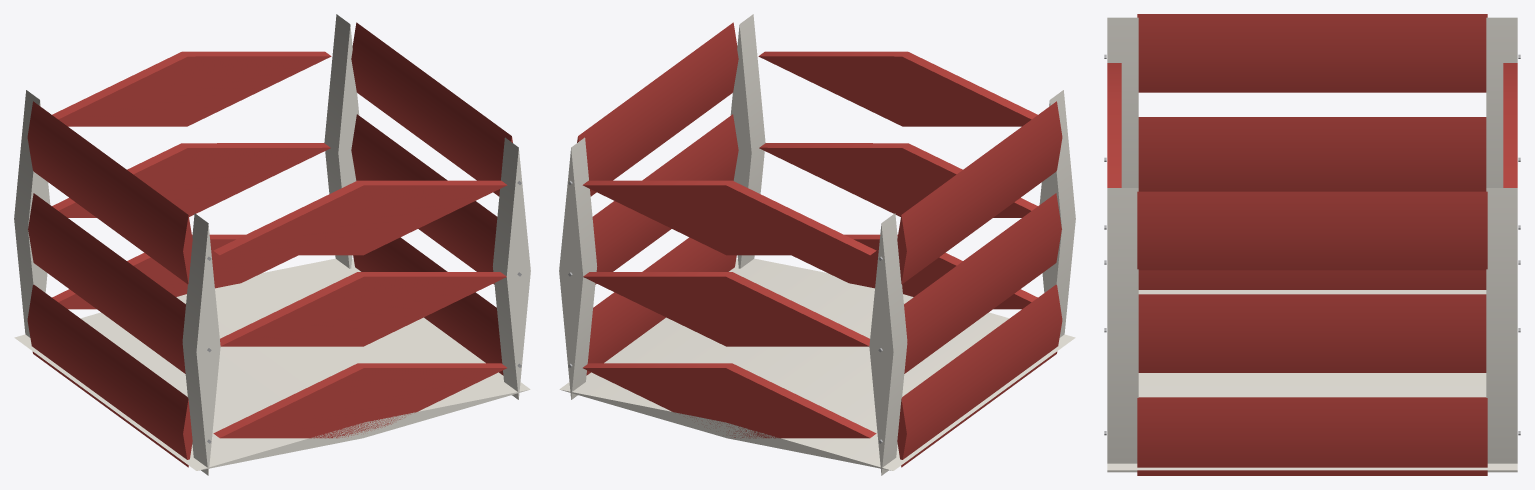
Rendered from crate.glb.
The picture shows the model from 3 angles, left to right: view 1: azimuth 30°, elevation 25°; view 2: azimuth 150°, elevation 25°; view 3: azimuth 270°, elevation 25°; orthographic projection. The views are drawn at different scales.
Parts seen in each view (by area): view 1: lod0; view 2: lod0; view 3: lod0.
Part boxes in pixels (x1,y1,x2,y2): lod0: (14,14,530,475); lod0: (559,14,1075,475); lod0: (1104,14,1520,475).
Size of what is drawn, in the model's own units: 0.36 by 0.26 by 0.345.
